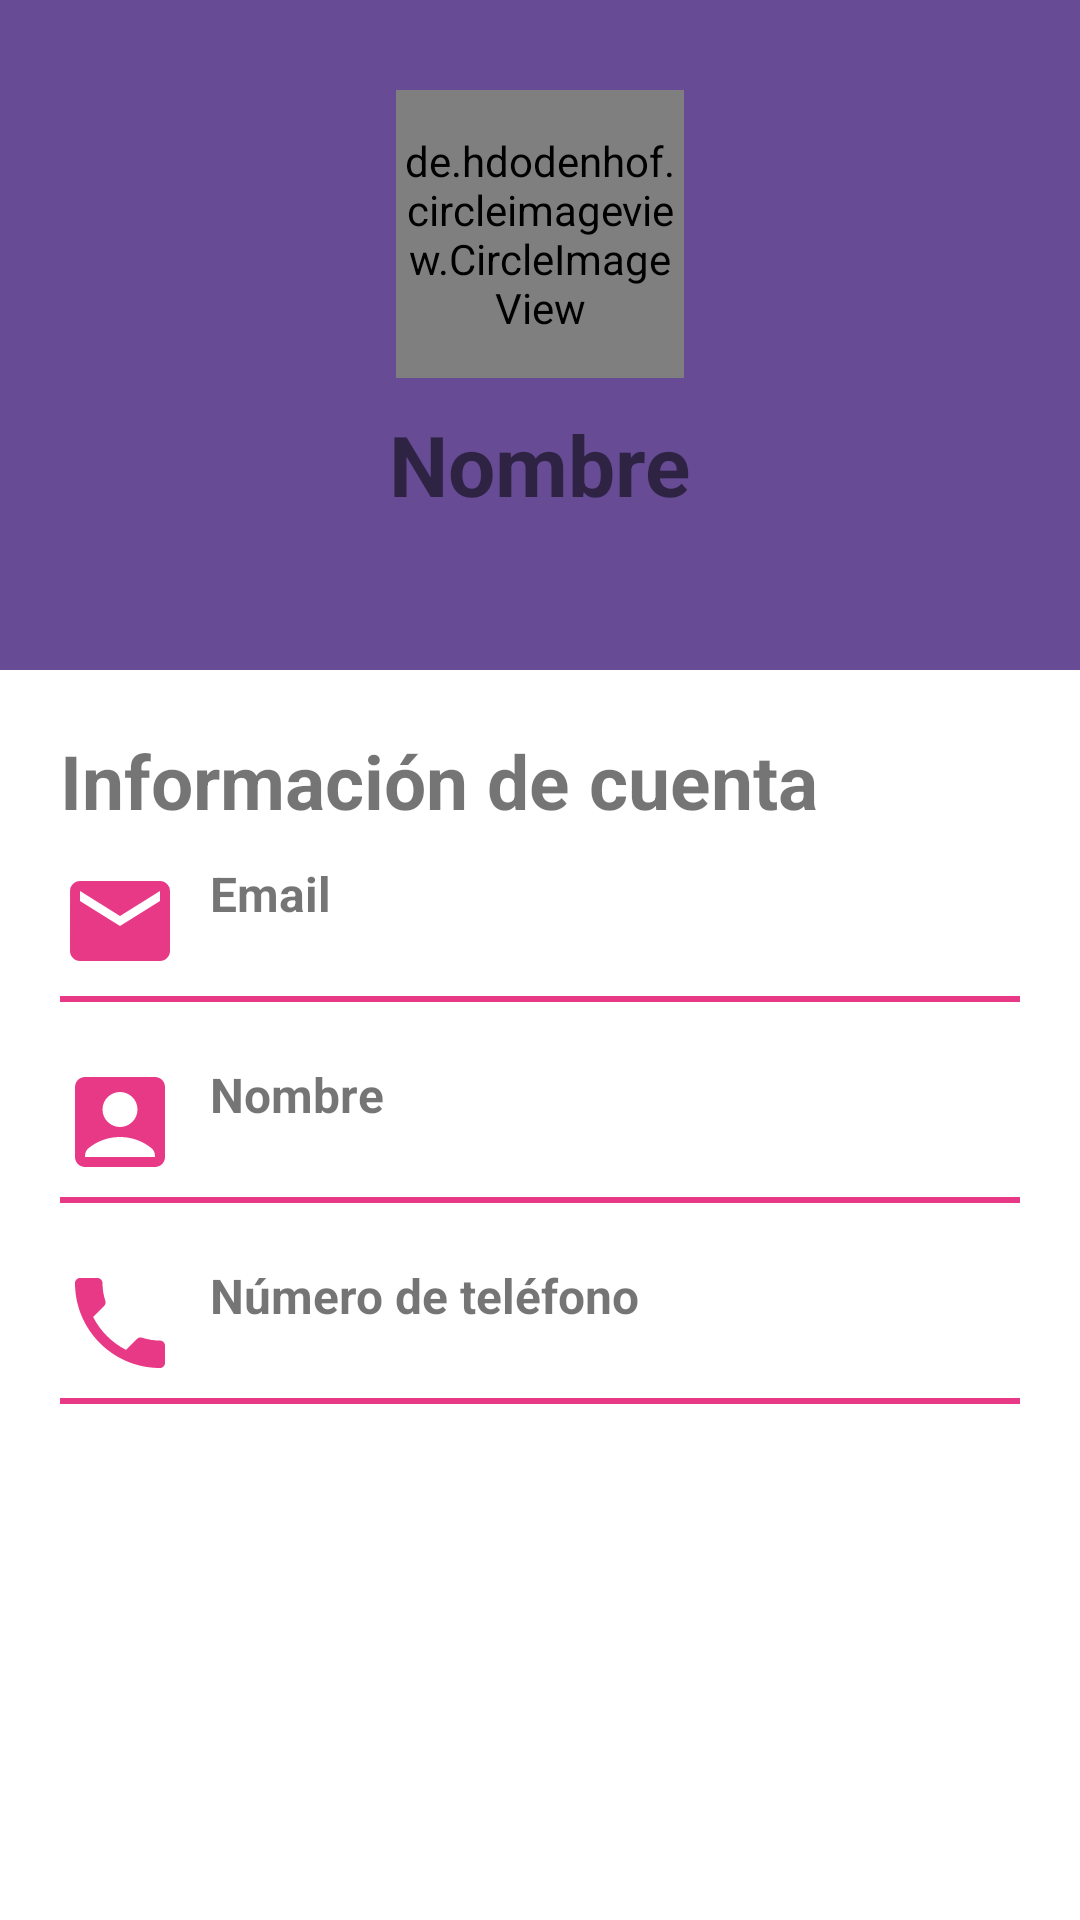

Icon bounding boxes for this 1080 x 1920 phone screenshot, format Rect(x1, y1, x2, y2):
account person: Rect(75, 1077, 165, 1167)
local phone: Rect(75, 1278, 165, 1368)
